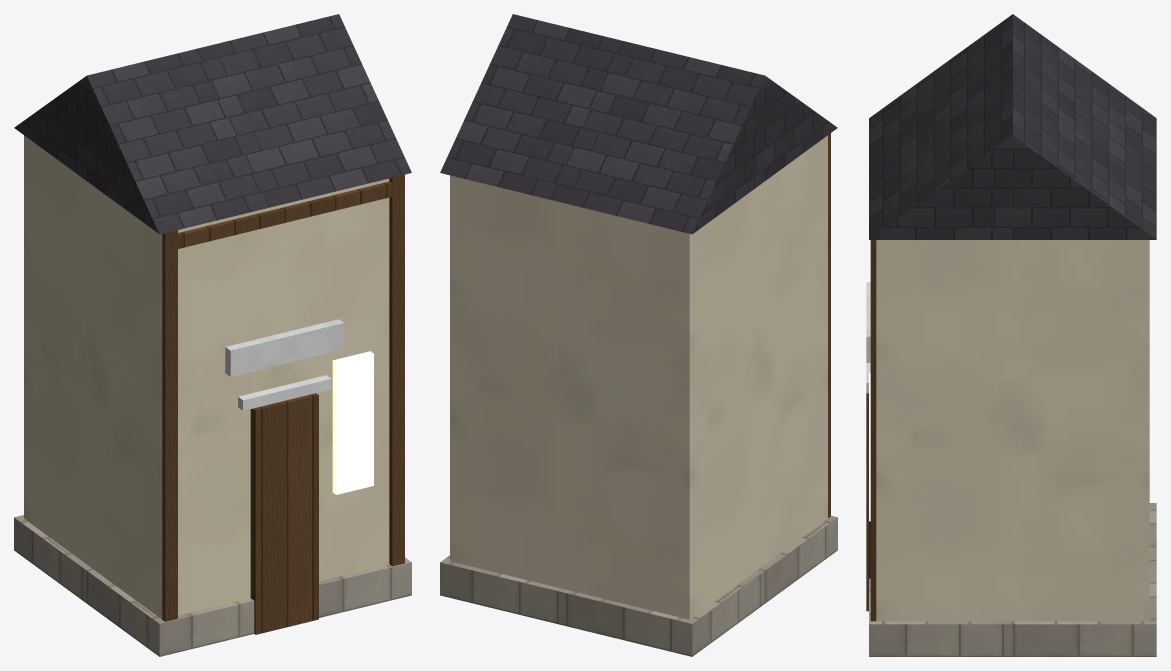
File: category.nft.t3.glb
3 renders of one model, left to right at view 1: azimuth 30°, elevation 25°; view 2: azimuth 150°, elevation 25°; view 3: azimuth 270°, elevation 25°, orthographic.
Parts seen in each view (by area): view 1: building.category.nft.t3; view 2: building.category.nft.t3; view 3: building.category.nft.t3.
Part boxes in pixels (x1,y1,x2,y2): building.category.nft.t3: (14,14,411,656); building.category.nft.t3: (440,14,837,656); building.category.nft.t3: (866,14,1156,656).
Size of the model in its own units: 2 by 4 by 2.02.
Materials: 7 (6 with a texture image).
